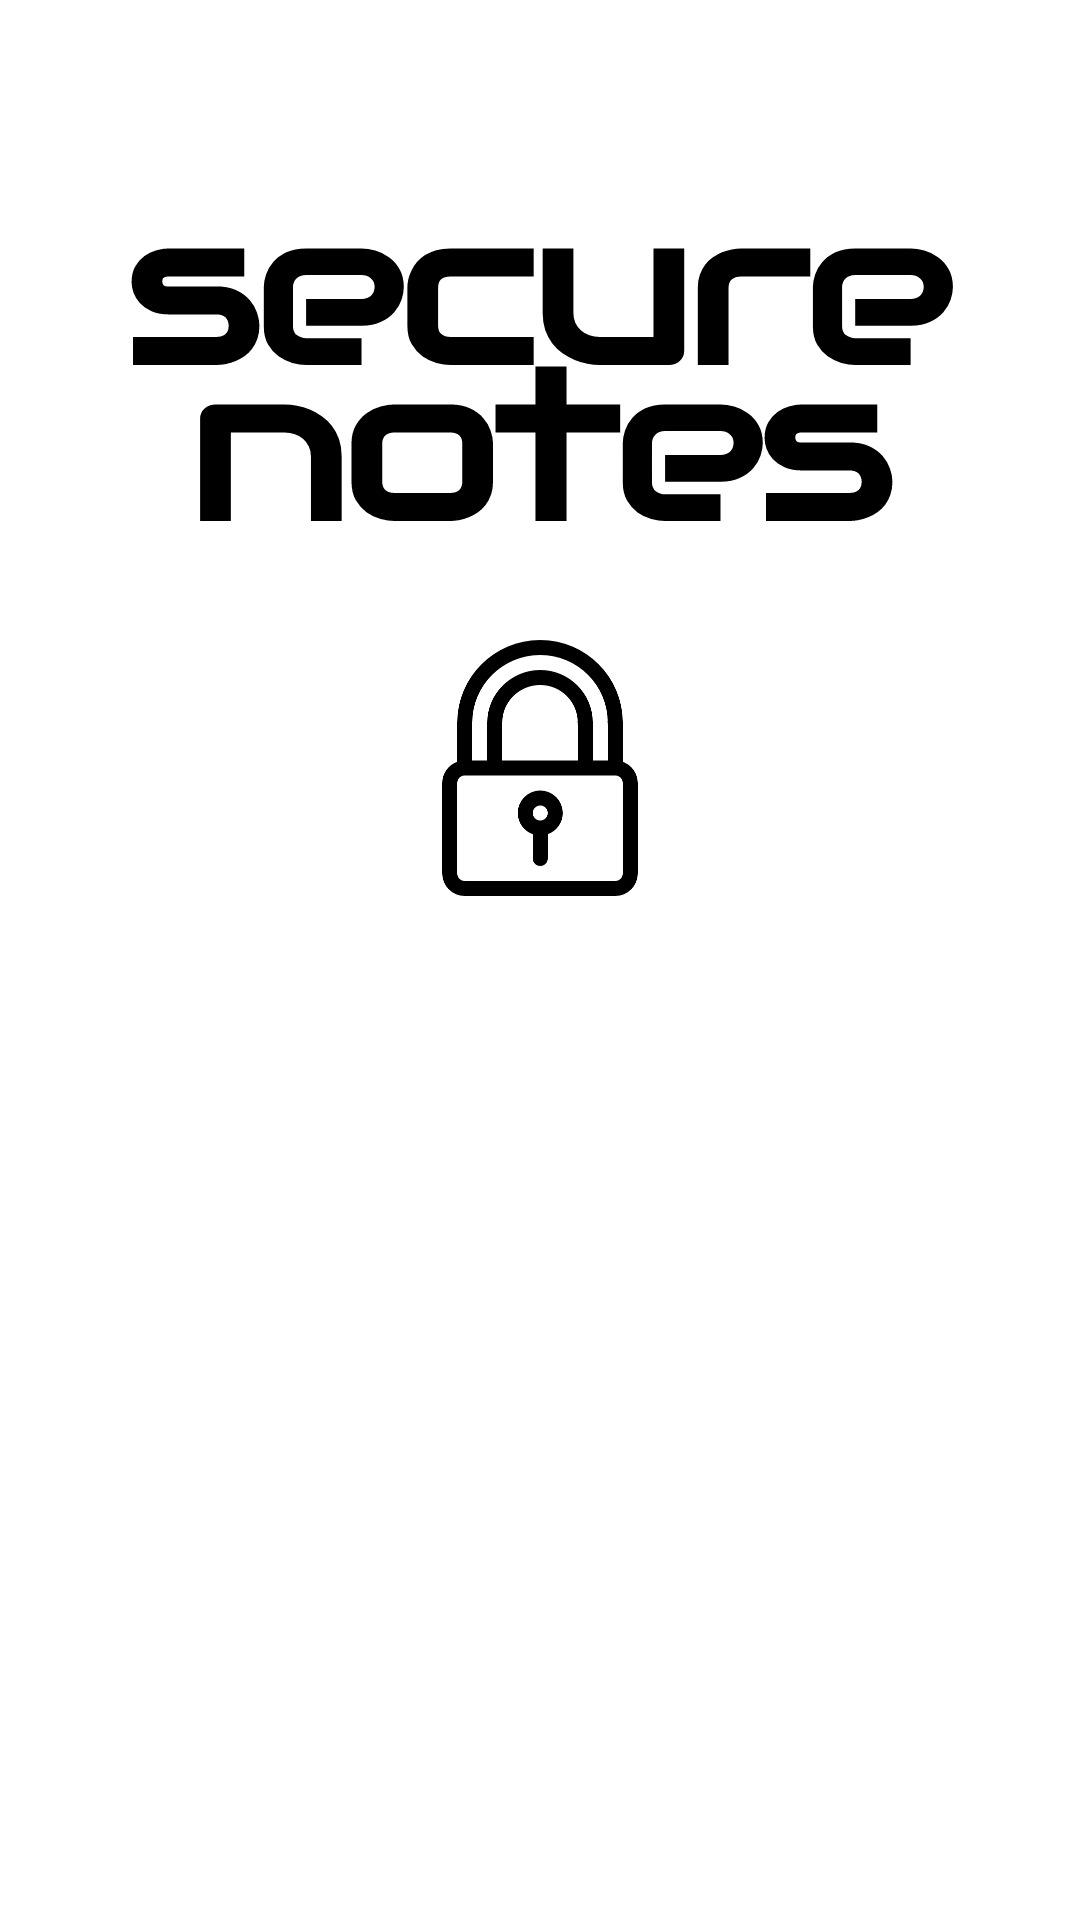

Screen size 1080px×1920px. Icon name, then its center in pixels as (x,y):
locked: (540,768)
